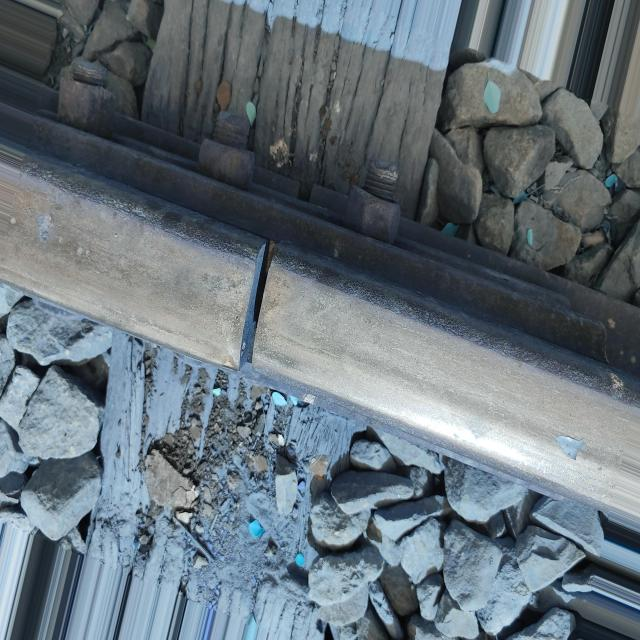crack: (228, 214, 285, 394)
